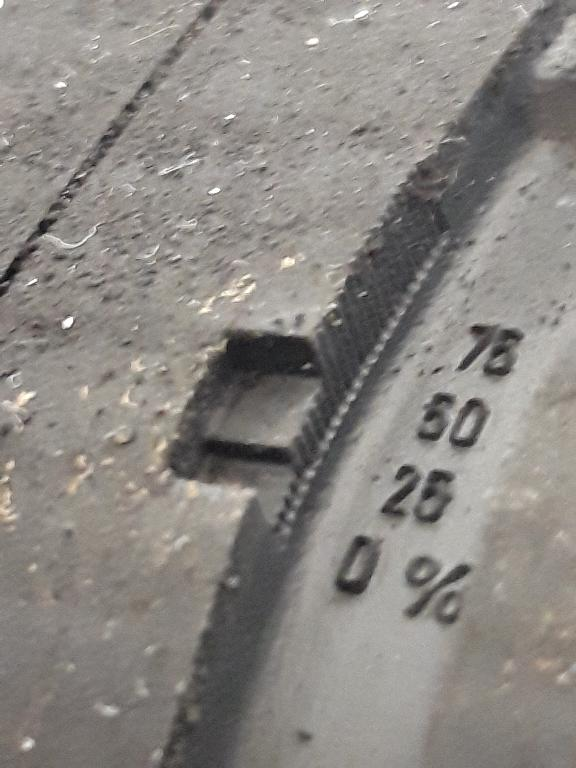temoin:50: (147, 230, 407, 573)
